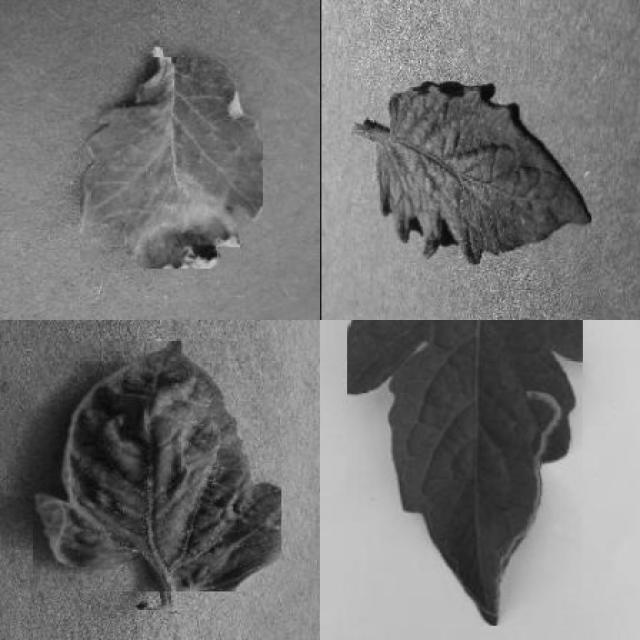Late Blight: (80, 57, 262, 269)
Leaf Miner: (347, 320, 583, 626)
Mosaic Virus: (375, 82, 592, 265)
Yellow Leaf Curl Virus: (33, 338, 281, 592)
